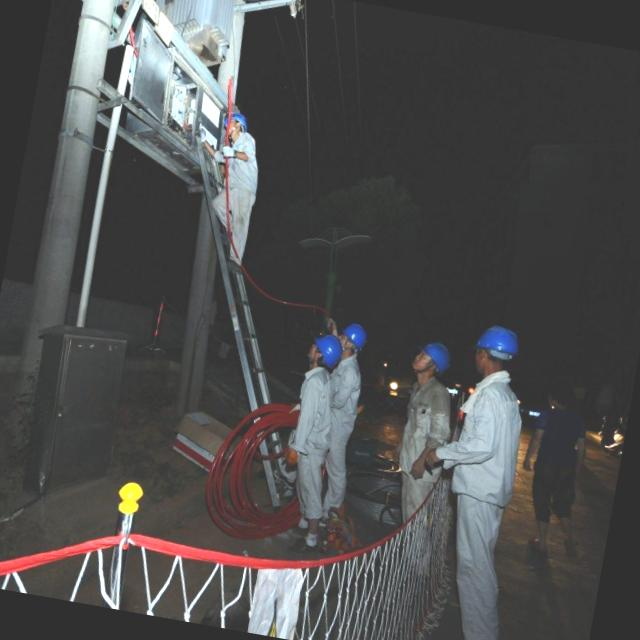helmet: (468, 322, 520, 376), (409, 333, 456, 382), (305, 326, 345, 378)
no-vest: (434, 362, 536, 516)
